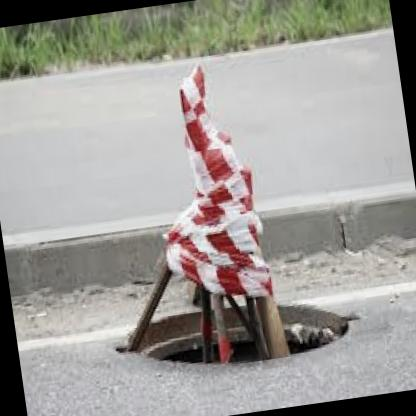manholes: (88, 217, 386, 416)
